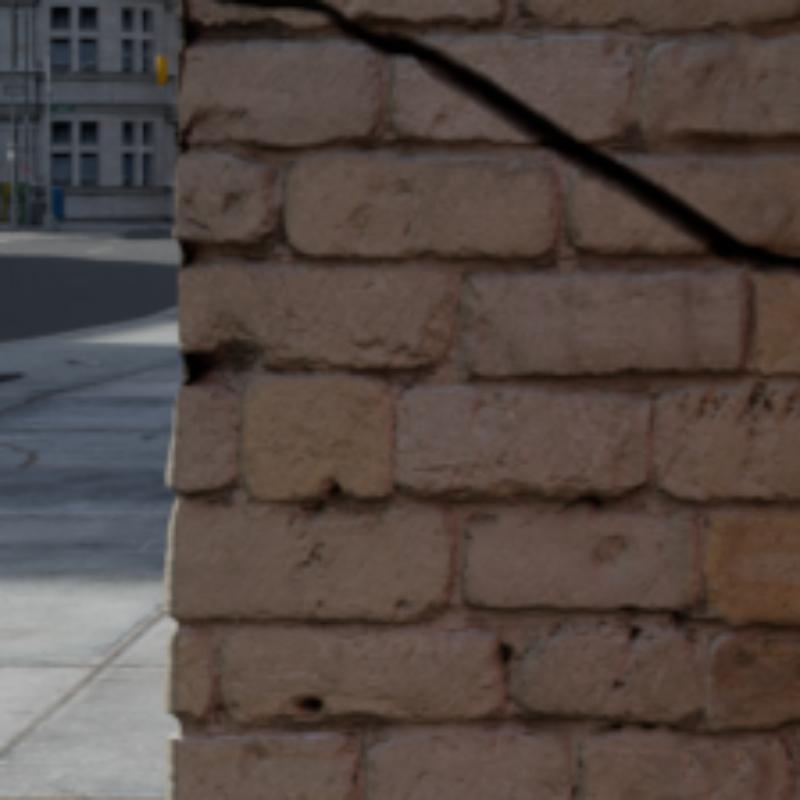crack: (211, 0, 796, 275)
